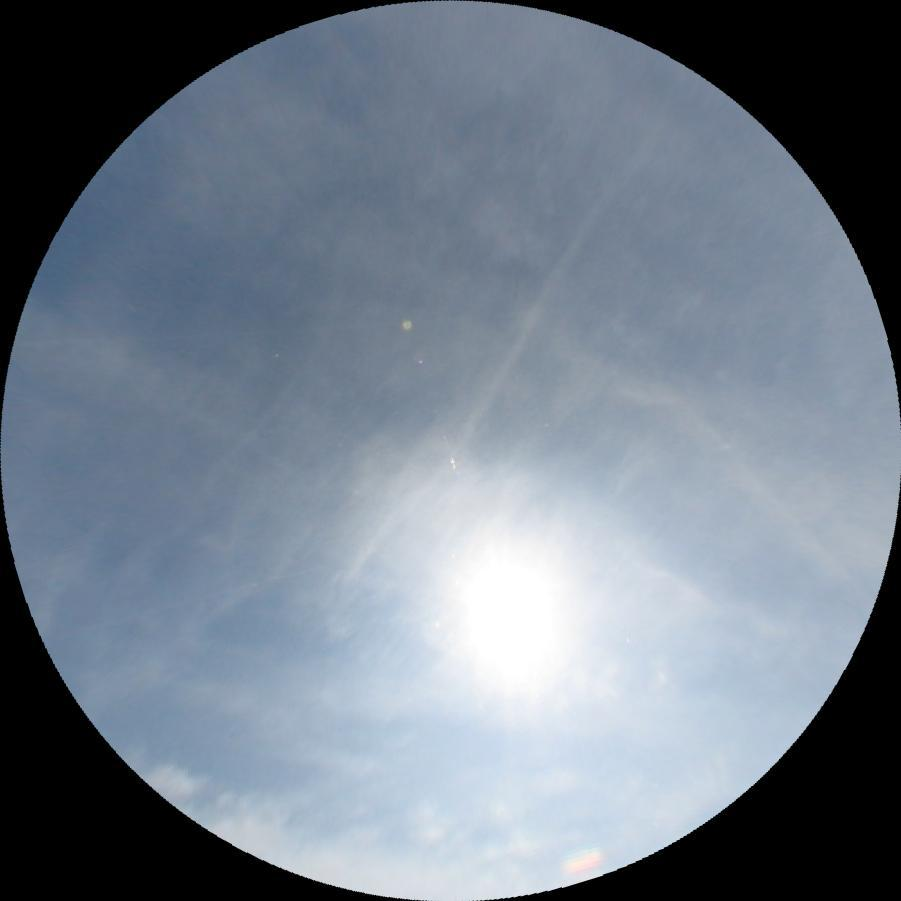contrail veryold: (326, 128, 676, 598)
sun: (457, 556, 562, 692)
